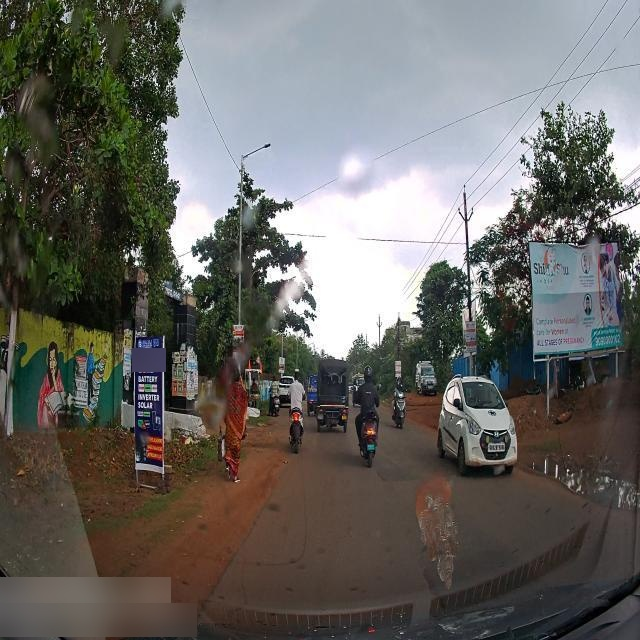pothole: (525, 448, 640, 508)
